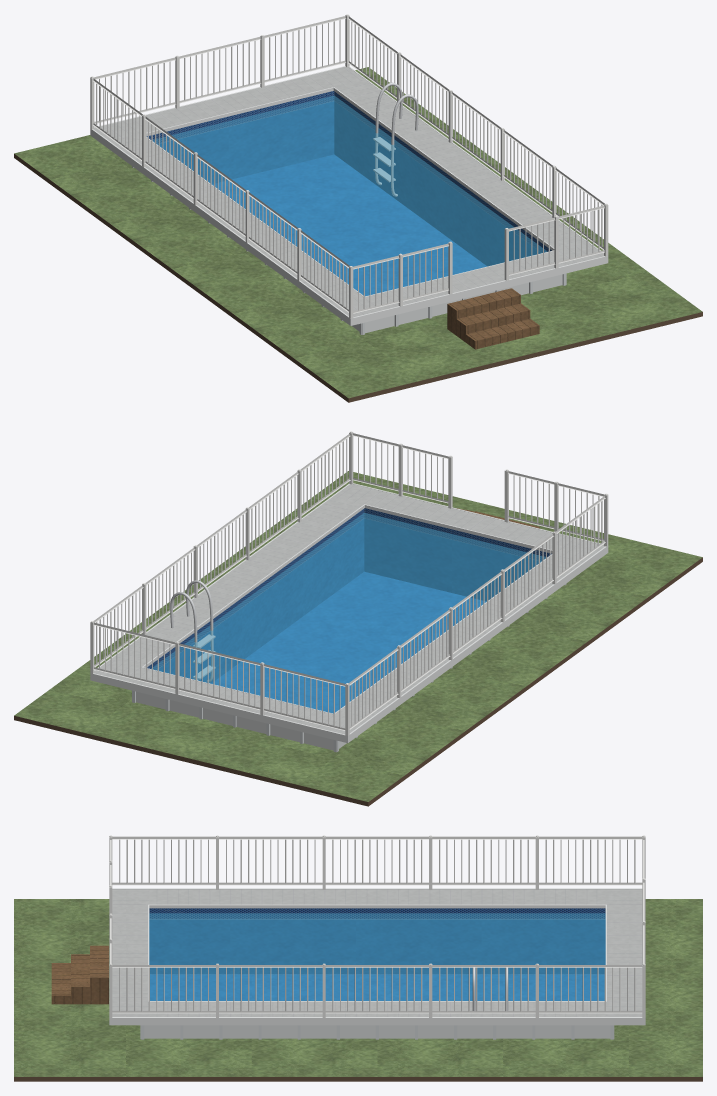
Rendered from kayak-pool-12x24-white-walk-rec-fence.2a2858d034.glb.
3 views of the same model, one above another, from view 1: azimuth 30°, elevation 25°; view 2: azimuth 150°, elevation 25°; view 3: azimuth 270°, elevation 25° (orthographic). The views are drawn at different scales.
Visible parts, largest first — view 1: ground, water, fence, liner_wall, deck, liner_floor, fascia, steps, soil, wall, steel; view 2: ground, water, fence, liner_wall, deck, liner_floor, fascia, soil, wall, steel; view 3: ground, water, liner_wall, deck, fence, liner_floor, fascia, wall, soil, steps, upright.
Part boxes in pixels (left/top/right/bottom): ground: left=14, top=67, right=702, bottom=398; water: left=152, top=95, right=547, bottom=296; fence: left=90, top=14, right=608, bottom=318; liner_wall: left=146, top=91, right=551, bottom=266; deck: left=93, top=67, right=603, bottom=317; liner_floor: left=212, top=154, right=486, bottom=296; fascia: left=90, top=66, right=608, bottom=325; steps: left=447, top=288, right=539, bottom=349; soil: left=14, top=154, right=702, bottom=402; wall: left=352, top=274, right=562, bottom=333; steel: left=373, top=82, right=418, bottom=196; ground: left=14, top=471, right=702, bottom=801; water: left=151, top=512, right=545, bottom=713; fence: left=90, top=431, right=608, bottom=735; liner_wall: left=147, top=508, right=551, bottom=683; deck: left=94, top=484, right=604, bottom=734; liner_floor: left=211, top=571, right=486, bottom=713; fascia: left=90, top=483, right=608, bottom=743; soil: left=14, top=557, right=702, bottom=806; wall: left=136, top=691, right=346, bottom=750; steel: left=170, top=580, right=215, bottom=682; ground: left=14, top=899, right=702, bottom=1076; water: left=149, top=913, right=605, bottom=1000; liner_wall: left=149, top=908, right=605, bottom=974; deck: left=112, top=889, right=642, bottom=1016; fence: left=109, top=835, right=645, bottom=1017; liner_floor: left=150, top=974, right=604, bottom=1000; fascia: left=109, top=888, right=645, bottom=1025; wall: left=144, top=1025, right=610, bottom=1038; soil: left=14, top=1077, right=702, bottom=1081; steps: left=51, top=945, right=108, bottom=1004; upright: left=140, top=1025, right=614, bottom=1039.
Bounding box in the file's own units: 6.71 × 2.15 × 10.97.
Materials: 13 (5 with a texture image).
